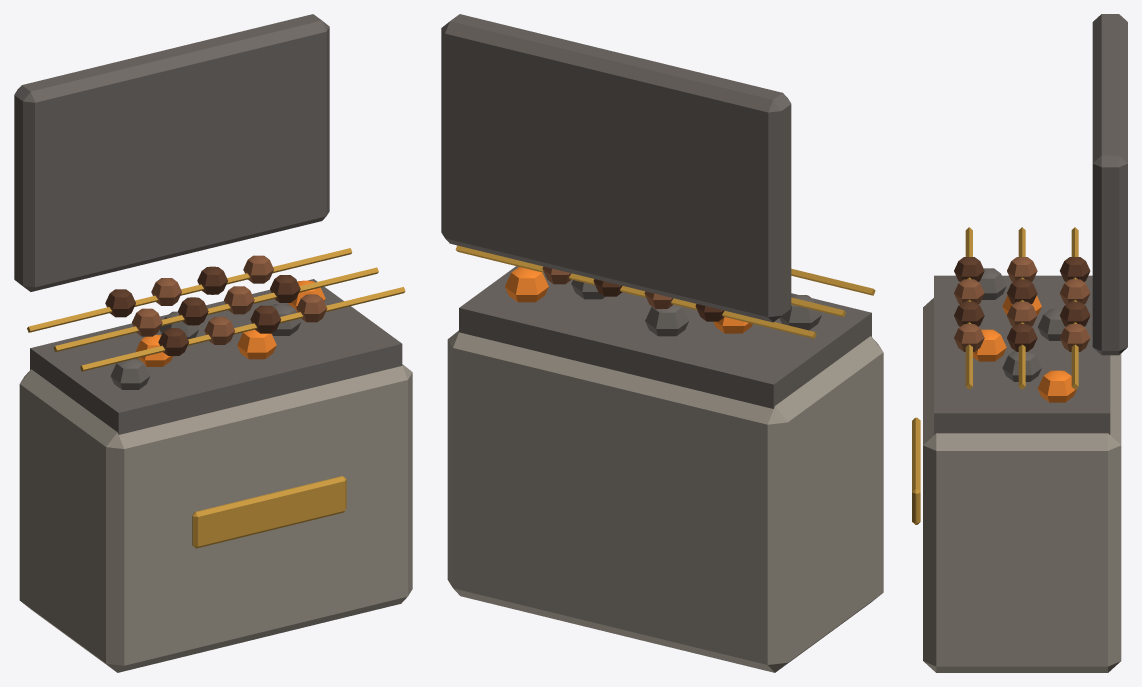
File: PR_Station_Mangal_T2.fbx
3 views of the same model, side by side, from view 1: azimuth 30°, elevation 25°; view 2: azimuth 150°, elevation 25°; view 3: azimuth 270°, elevation 25° (orthographic). The views are drawn at different scales.
Parts seen in each view (by area): view 1: PR_Station_Mangal_T2; view 2: PR_Station_Mangal_T2; view 3: PR_Station_Mangal_T2.
Boxes of the visible parts, x1,y1,x2,y2 form: PR_Station_Mangal_T2: [14, 14, 412, 672]; PR_Station_Mangal_T2: [441, 14, 883, 672]; PR_Station_Mangal_T2: [912, 14, 1127, 672].
Size of the model in its own units: 0.84 by 1.3 by 0.49.
1 material, 1 textured.
